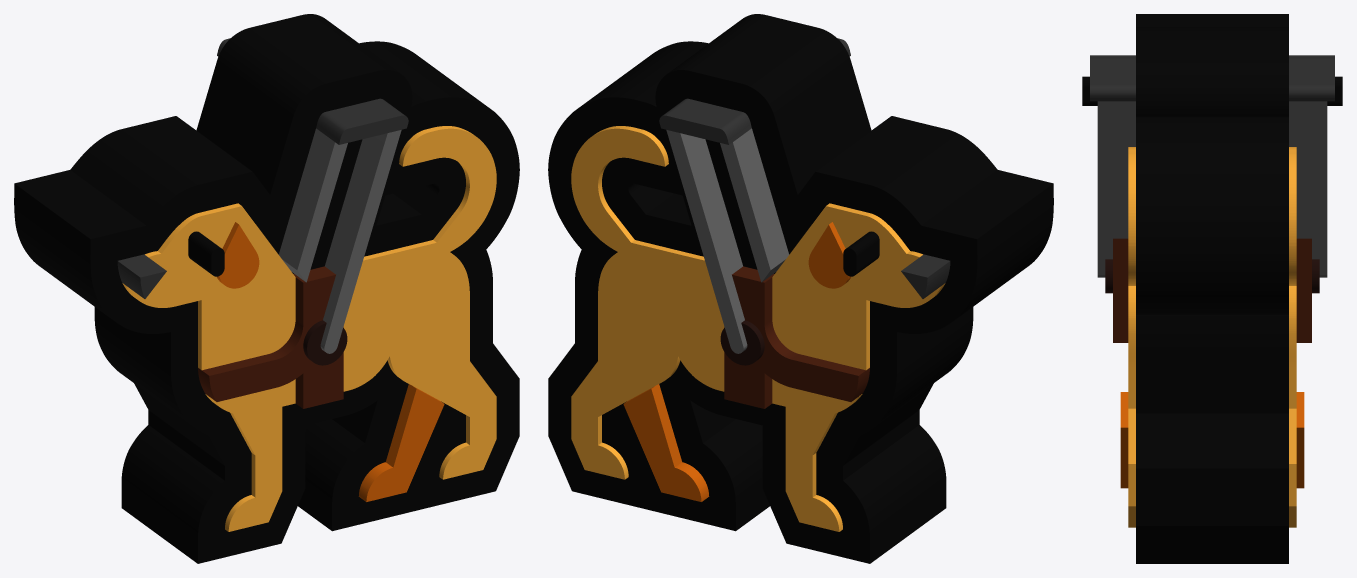
3 renders of one model, left to right at view 1: azimuth 30°, elevation 25°; view 2: azimuth 150°, elevation 25°; view 3: azimuth 270°, elevation 25°, orthographic.
Visible parts, largest first — view 1: U+1F9AE_layer00_obj00, U+1F9AE_layer01_obj00, U+1F9AE_layer05_obj00, U+1F9AE_layer03_obj00, U+1F9AE_layer02_obj00, U+1F9AE_layer06_obj00, U+1F9AE_layer07_obj00, U+1F9AE_layer04_obj00; view 2: U+1F9AE_layer00_obj00, U+1F9AE_layer01_obj00, U+1F9AE_layer05_obj00, U+1F9AE_layer03_obj00, U+1F9AE_layer02_obj00, U+1F9AE_layer06_obj00, U+1F9AE_layer07_obj00, U+1F9AE_layer04_obj00; view 3: U+1F9AE_layer00_obj00, U+1F9AE_layer05_obj00, U+1F9AE_layer01_obj00, U+1F9AE_layer06_obj00, U+1F9AE_layer03_obj00, U+1F9AE_layer02_obj00, U+1F9AE_layer04_obj00, U+1F9AE_layer07_obj00.
Part boxes in pixels (x1,y1,x2,y2): U+1F9AE_layer00_obj00: [14, 14, 519, 563]; U+1F9AE_layer01_obj00: [122, 126, 496, 531]; U+1F9AE_layer05_obj00: [278, 128, 401, 353]; U+1F9AE_layer03_obj00: [198, 266, 343, 408]; U+1F9AE_layer02_obj00: [217, 222, 444, 501]; U+1F9AE_layer06_obj00: [117, 38, 408, 298]; U+1F9AE_layer07_obj00: [188, 231, 224, 276]; U+1F9AE_layer04_obj00: [303, 320, 347, 365]; U+1F9AE_layer00_obj00: [548, 14, 1053, 563]; U+1F9AE_layer01_obj00: [571, 126, 945, 531]; U+1F9AE_layer05_obj00: [666, 128, 789, 353]; U+1F9AE_layer03_obj00: [724, 266, 869, 408]; U+1F9AE_layer02_obj00: [623, 222, 850, 501]; U+1F9AE_layer06_obj00: [659, 38, 950, 298]; U+1F9AE_layer07_obj00: [843, 231, 879, 276]; U+1F9AE_layer04_obj00: [720, 320, 764, 365]; U+1F9AE_layer00_obj00: [1136, 14, 1288, 563]; U+1F9AE_layer05_obj00: [1097, 101, 1327, 277]; U+1F9AE_layer01_obj00: [1128, 147, 1296, 527]; U+1F9AE_layer06_obj00: [1090, 55, 1334, 101]; U+1F9AE_layer03_obj00: [1113, 238, 1311, 342]; U+1F9AE_layer02_obj00: [1120, 392, 1304, 488]; U+1F9AE_layer04_obj00: [1105, 259, 1319, 293]; U+1F9AE_layer07_obj00: [1082, 76, 1342, 105].
Bounding box in the file's own units: 0.6494 × 0.649 × 0.34.
